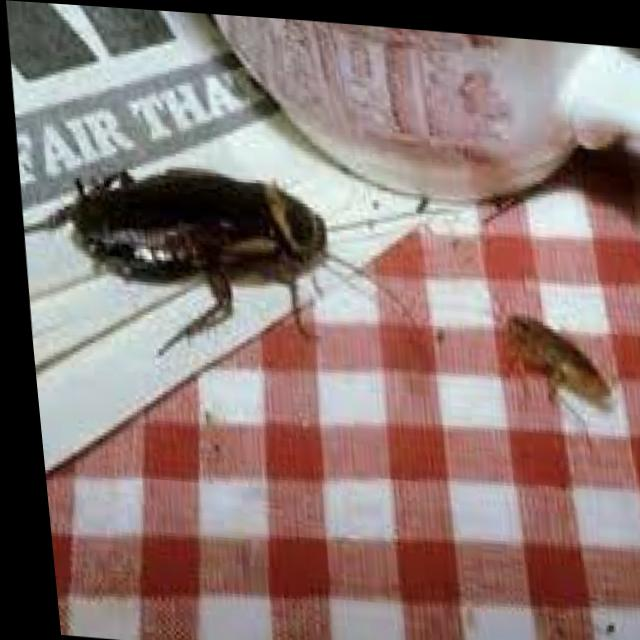Cockroach: (9, 115, 480, 388)
